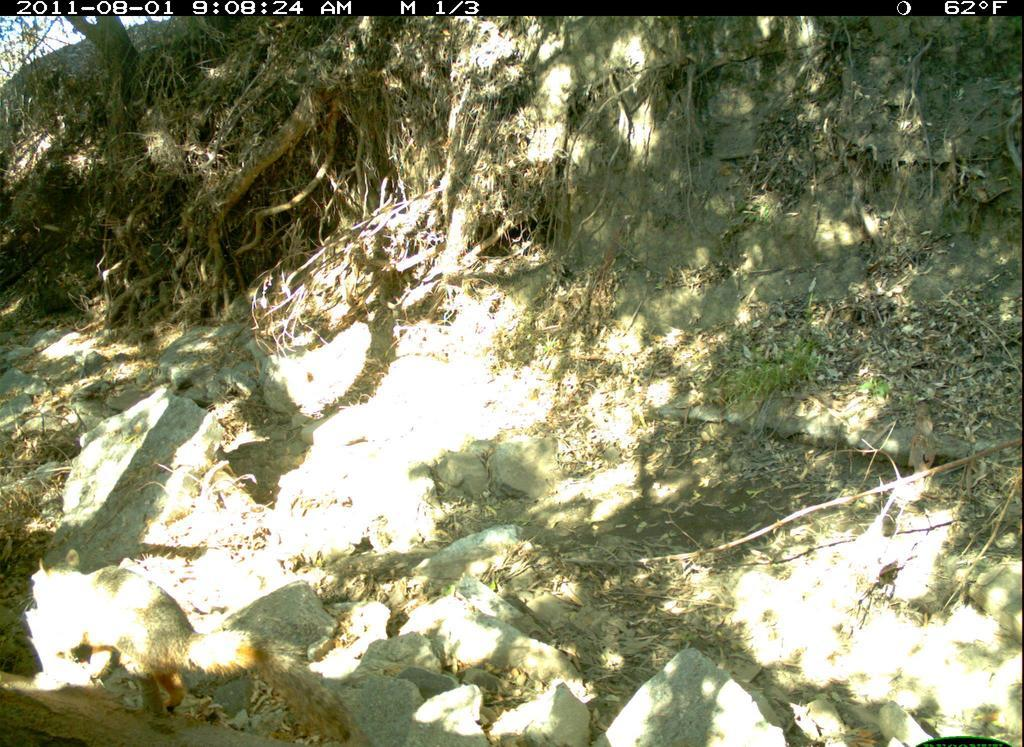squirrel: (16, 551, 373, 743)
